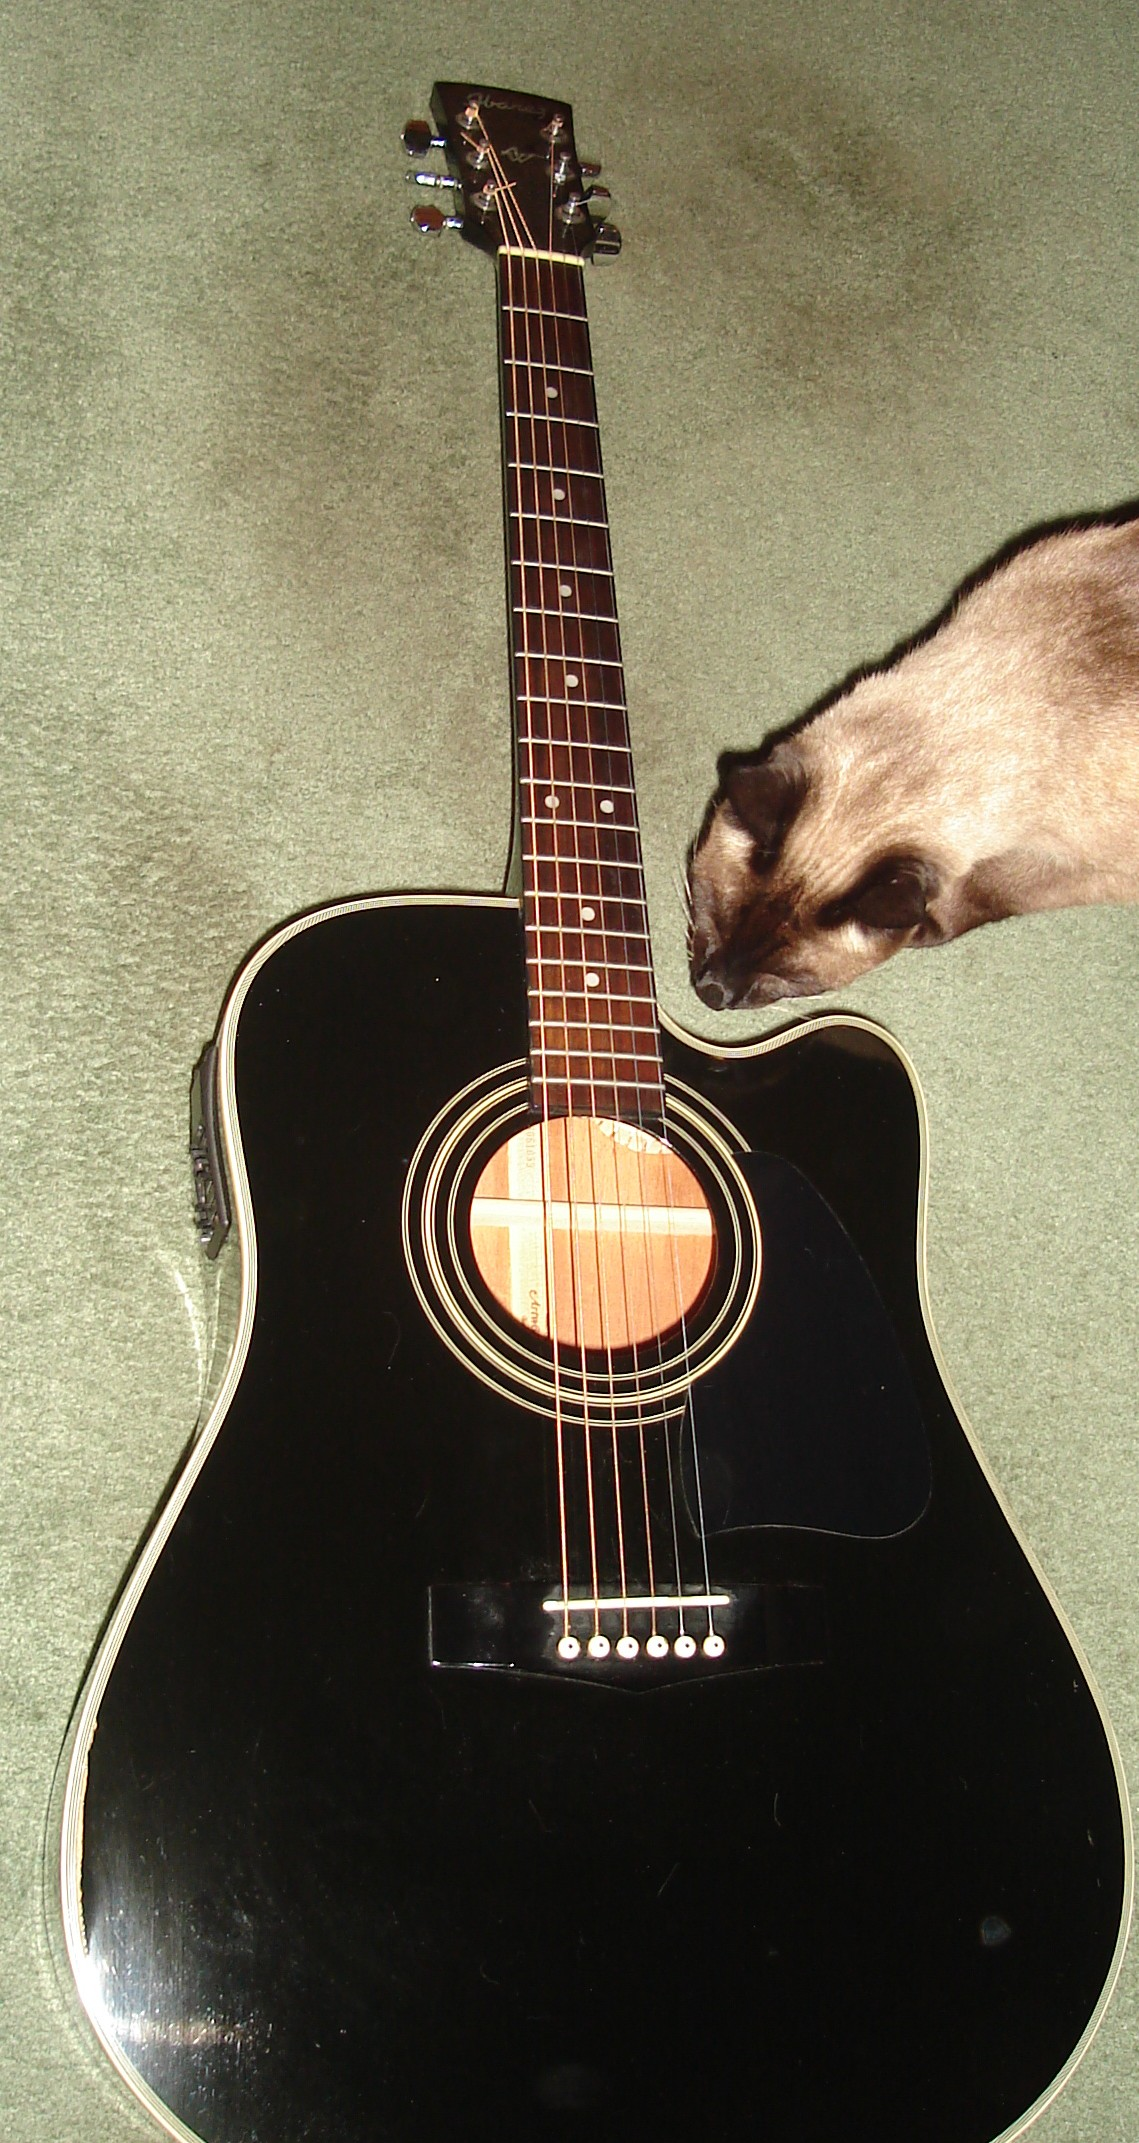guitar: (38, 71, 1119, 2143)
